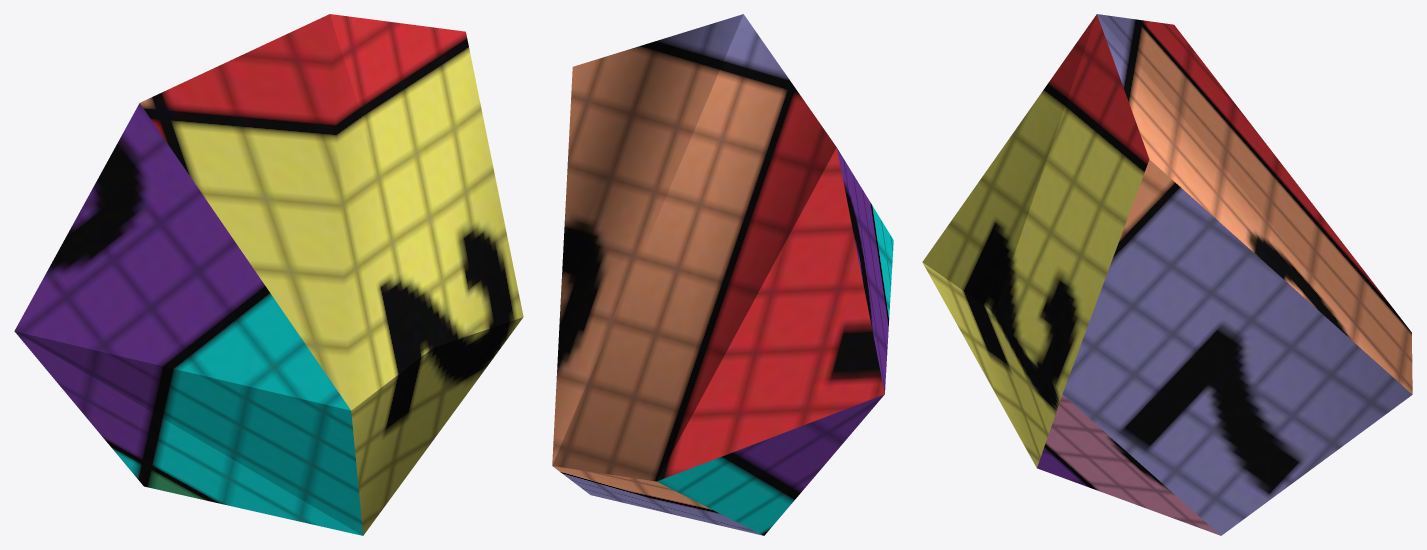
The model's file is lprock4.FBX.
3 renders of one model, left to right at view 1: azimuth 30°, elevation 25°; view 2: azimuth 150°, elevation 25°; view 3: azimuth 270°, elevation 25°, orthographic. The views are drawn at different scales.
Visible parts, largest first — view 1: rock4; view 2: rock4; view 3: rock4.
Boxes of the visible parts, x1=… form: rock4: x1=14, y1=14, x2=523, y2=535; rock4: x1=552, y1=14, x2=893, y2=535; rock4: x1=922, y1=14, x2=1412, y2=535.
Bounding box in the file's own units: 72.45 × 87.41 × 81.76.
1 material, 1 textured.
